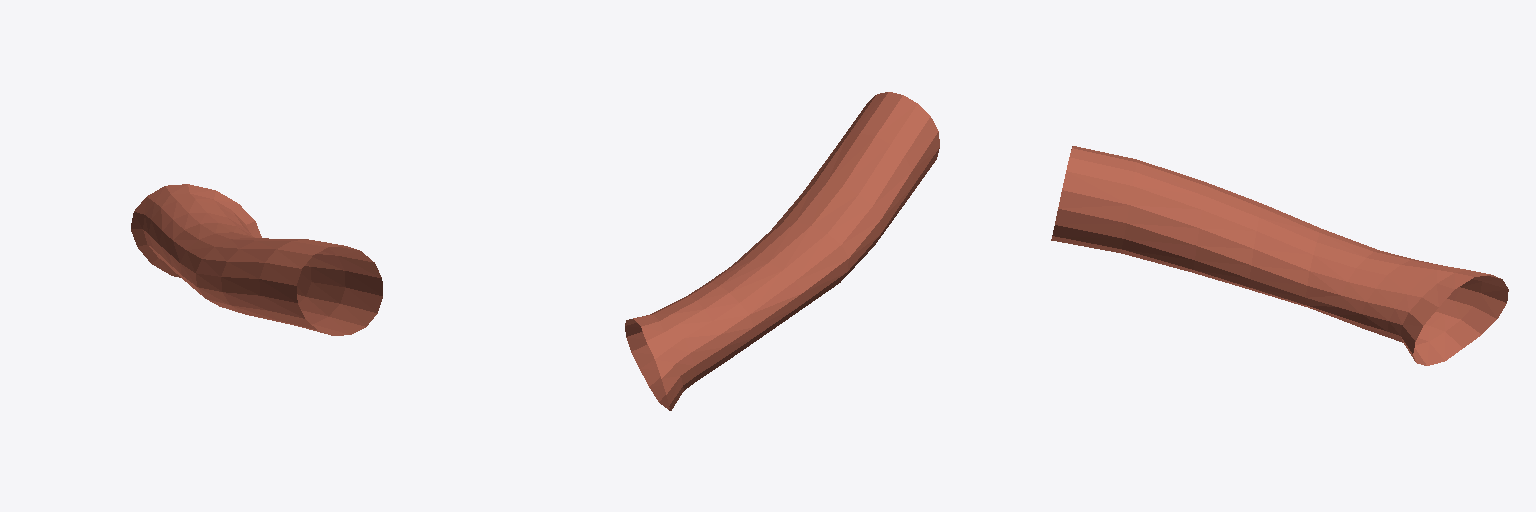
Rendered from esophagus_nissen.obj.
3 renders of one model, left to right at view 1: azimuth 30°, elevation 25°; view 2: azimuth 150°, elevation 25°; view 3: azimuth 270°, elevation 25°, orthographic.
Visible parts, largest first — view 1: esophagus_nissen_esophagus.004; view 2: esophagus_nissen_esophagus.004; view 3: esophagus_nissen_esophagus.004.
Boxes of the visible parts, x1,y1,x2,y2 form: esophagus_nissen_esophagus.004: [131, 184, 382, 335]; esophagus_nissen_esophagus.004: [625, 92, 939, 410]; esophagus_nissen_esophagus.004: [1051, 146, 1508, 365].
Size of the model in its own units: 1.9 by 2.27 by 5.08.